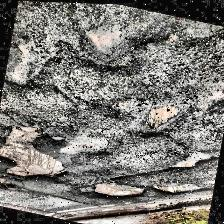pothole: (0, 119, 74, 191), (87, 172, 147, 208), (4, 40, 44, 92), (78, 17, 125, 60), (154, 170, 212, 202), (140, 96, 184, 138), (169, 144, 217, 176)
